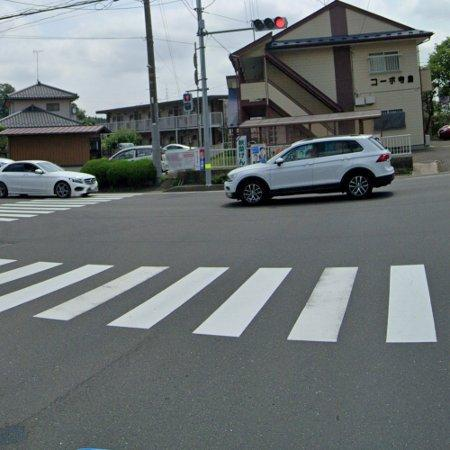crosswalks: (0, 252, 435, 346)
